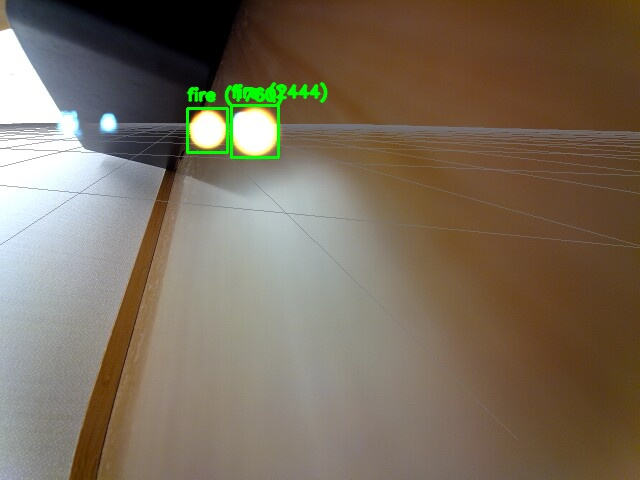fire: (231, 105, 278, 157), (187, 108, 227, 152)
